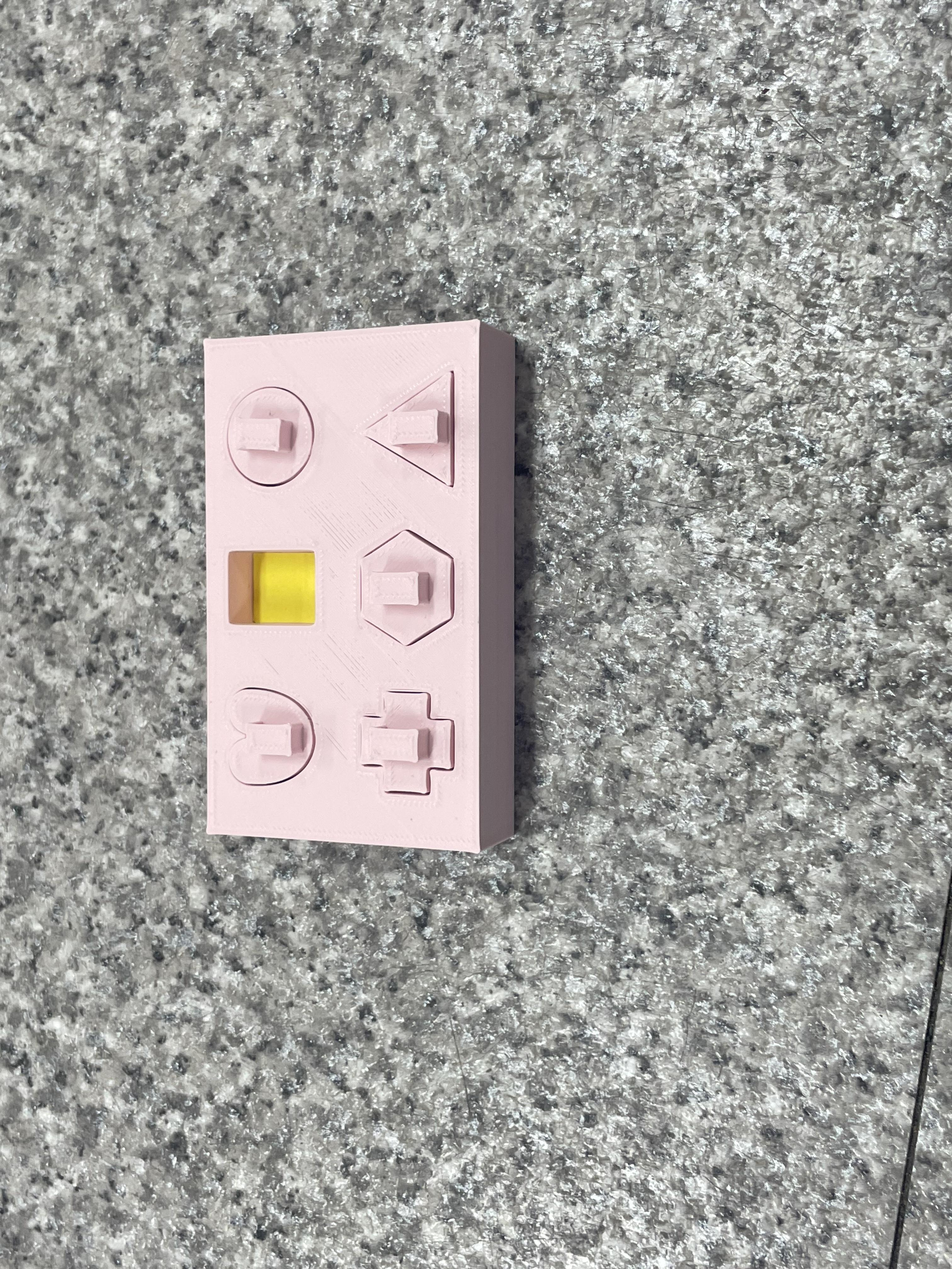unsolved: (173, 296, 541, 888)
